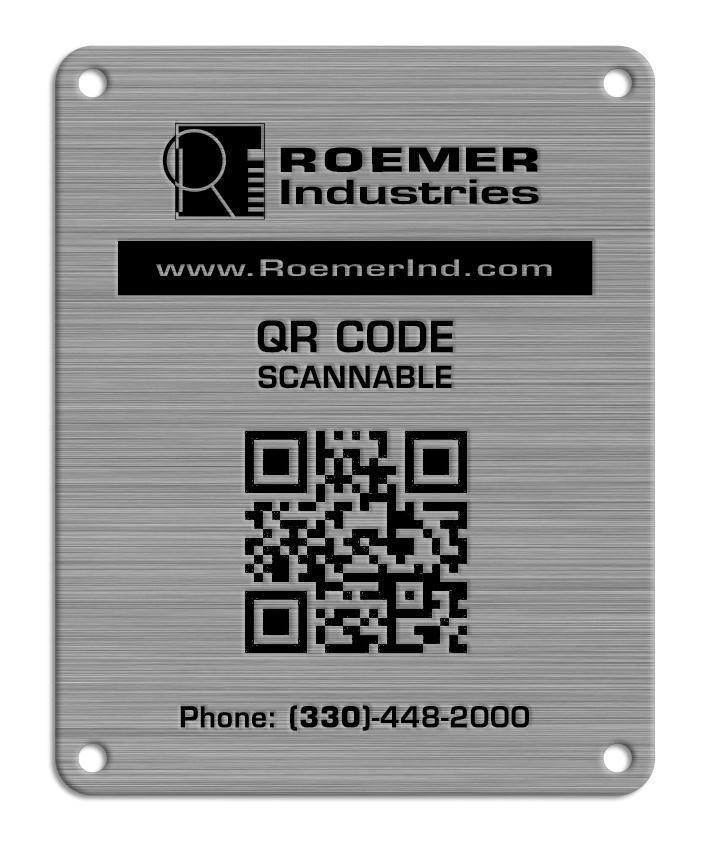Finder pattern: (241, 424, 313, 498), (401, 425, 472, 497), (241, 585, 311, 656)
